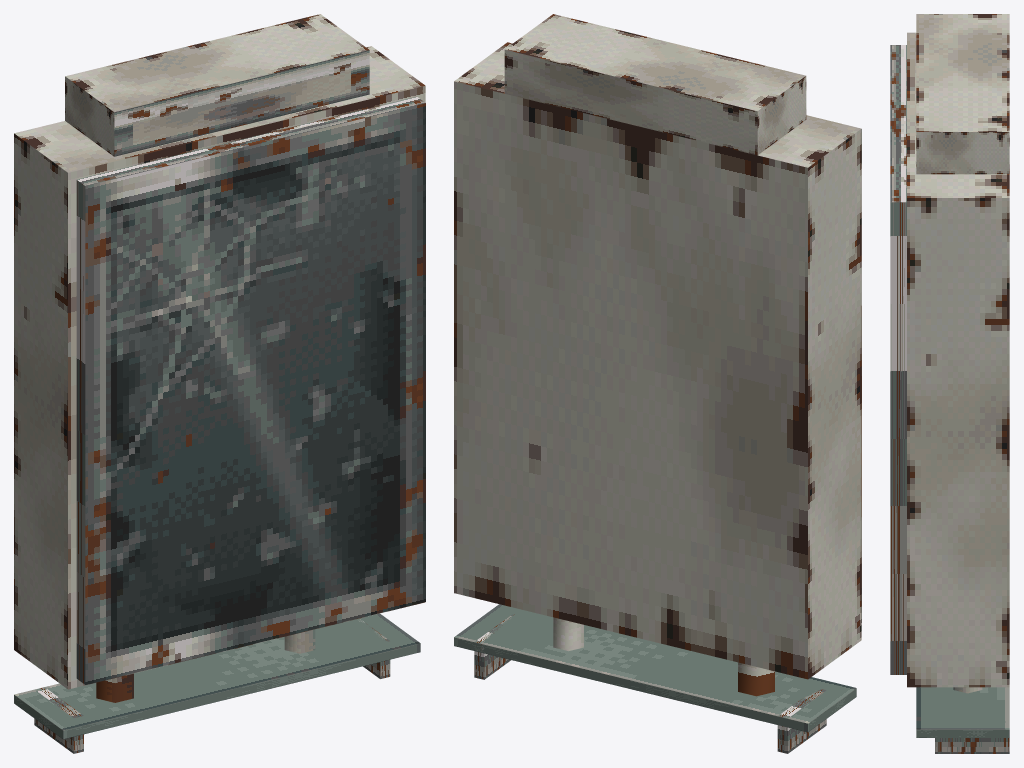
File: medicine_cabinet.glb
3 views of the same model, side by side, from view 1: azimuth 30°, elevation 25°; view 2: azimuth 150°, elevation 25°; view 3: azimuth 270°, elevation 25° (orthographic). The views are drawn at different scales.
Parts seen in each view (by area): view 1: medicine_cabinet; view 2: medicine_cabinet; view 3: medicine_cabinet.
Boxes of the visible parts, <box> form: medicine_cabinet: <box>14,14,425,753</box>; medicine_cabinet: <box>454,14,861,753</box>; medicine_cabinet: <box>890,14,1009,753</box>.
Size of the model in its own units: 0.42 by 0.72 by 0.128.
Materials: 1 (1 with a texture image).
